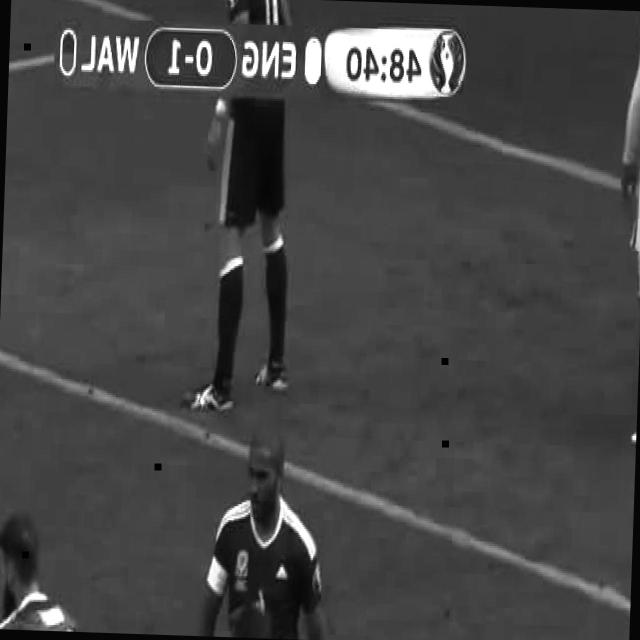player-white: (186, 424, 358, 640), (0, 513, 128, 632), (221, 605, 369, 640)
